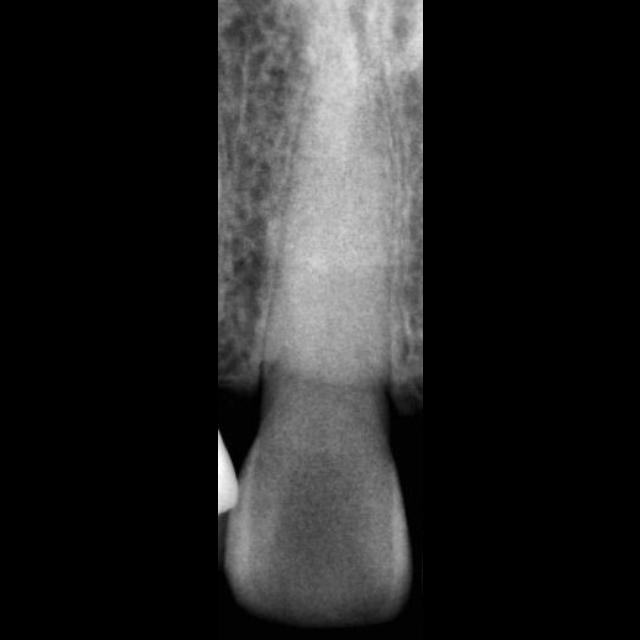tooth: (224, 11, 409, 629)
